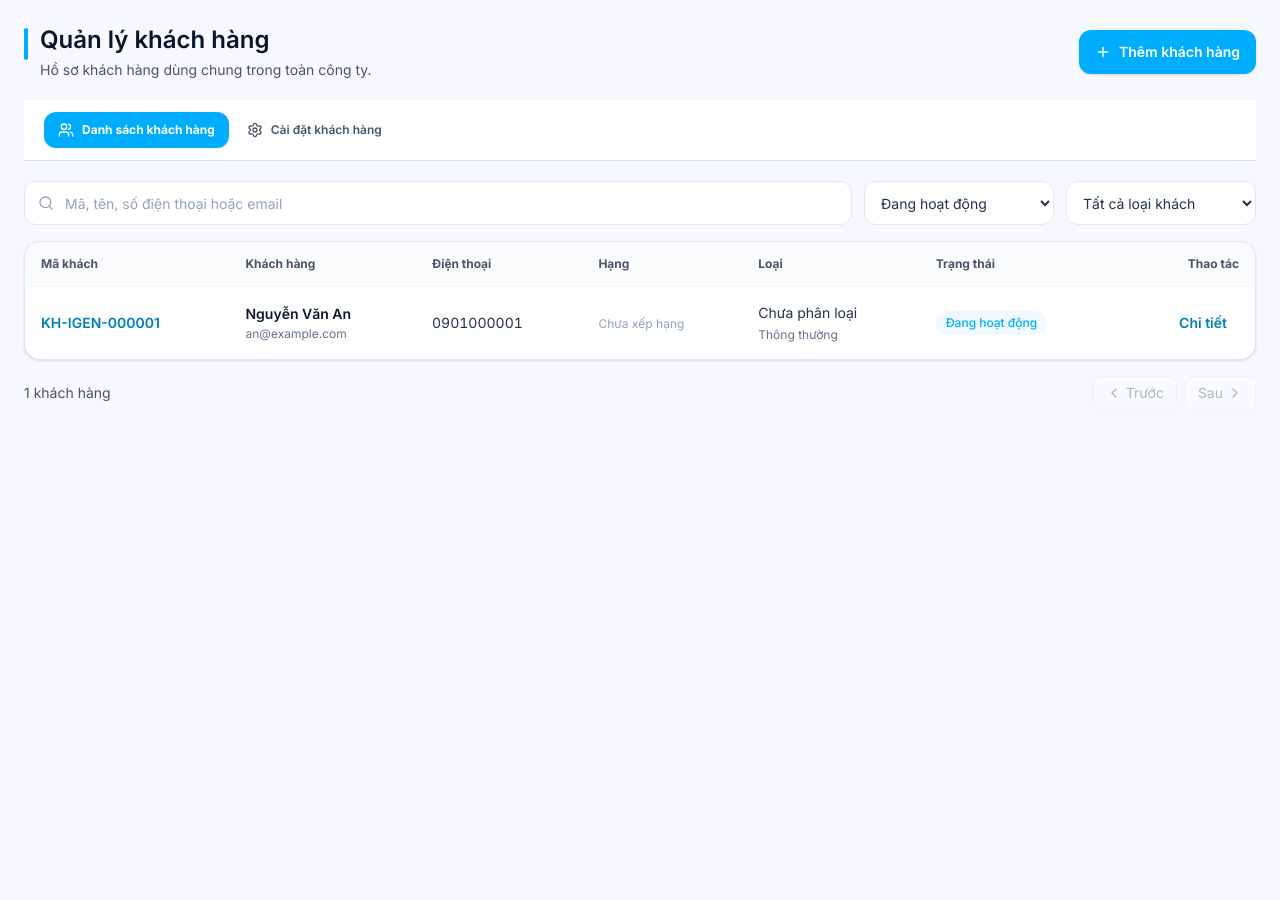
Scenario: CustomerWorkspace purchase history › shows the branch selection prompt without requesting history when no branch is active
Expected: the text "Nguyễn Văn An" is shown, [246, 305, 351, 322]
Click the button with aria-label "Chi tiết Nguyễn Văn An".
click(1203, 323)  # box [1167, 307, 1239, 339]
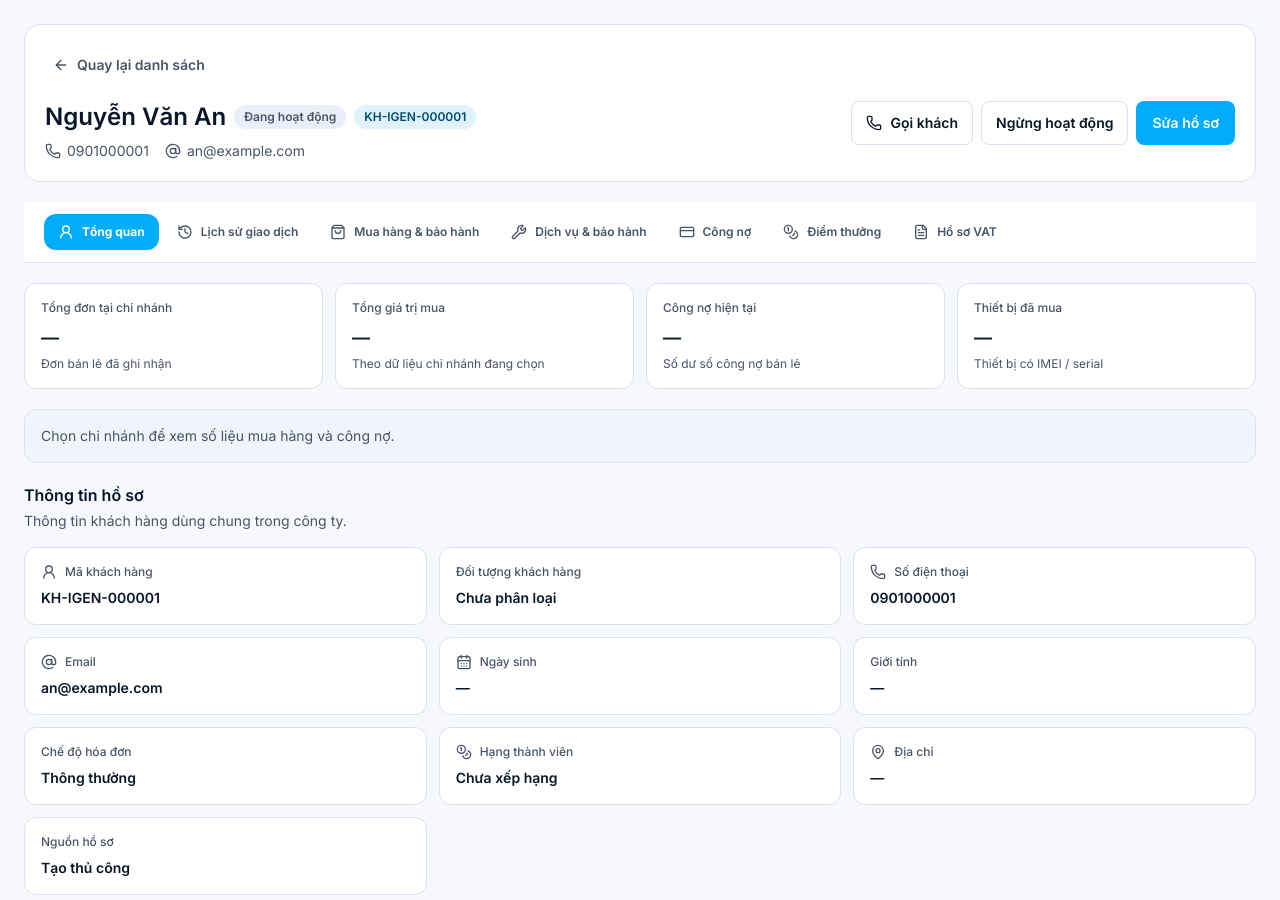
Result: the text "Chọn chi nhánh để xem số liệu mua hàng và công nợ." is shown at [24, 409, 1256, 463]
